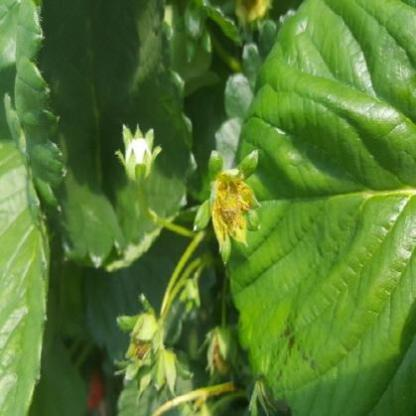Strawberry_Blossom_Blight: (208, 169, 255, 244)
